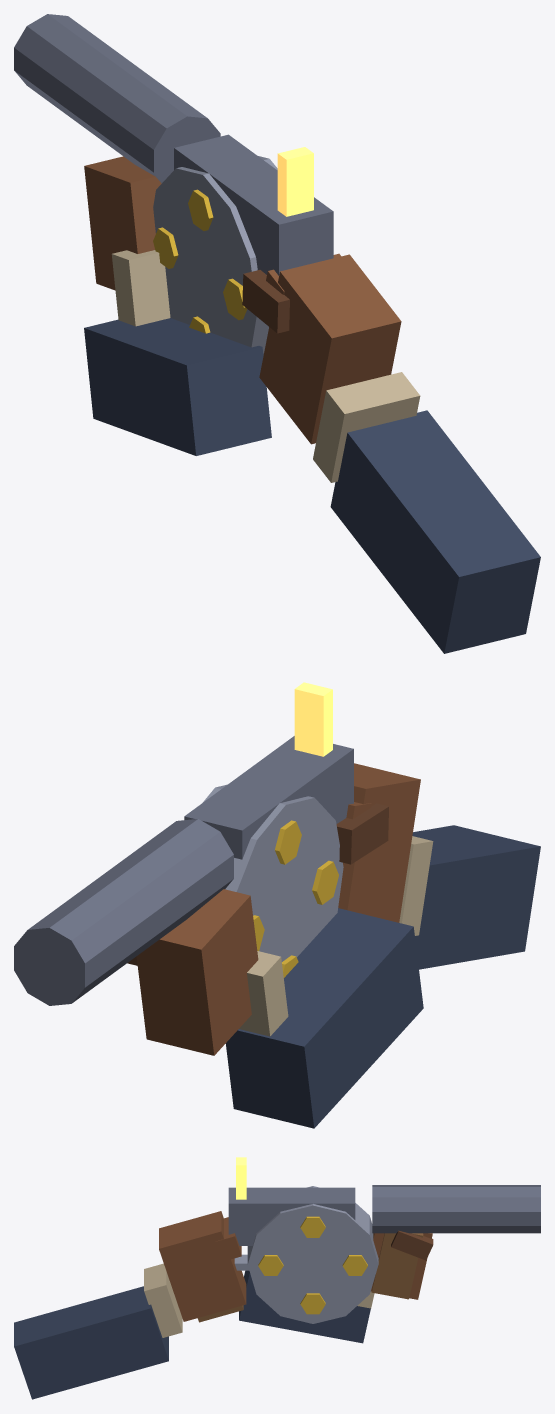
Rendered from weapon_grenade.glb.
The picture shows the model from 3 angles, top to bottom: view 1: azimuth 30°, elevation 25°; view 2: azimuth 150°, elevation 25°; view 3: azimuth 270°, elevation 25°; orthographic projection. The views are drawn at different scales.
Visible parts, largest first — view 1: grenade_launcher; view 2: grenade_launcher; view 3: grenade_launcher.
Part boxes in pixels (x1,y1,x2,y2): grenade_launcher: (14, 14, 540, 653); grenade_launcher: (14, 682, 540, 1128); grenade_launcher: (14, 1157, 540, 1399).
Size of the model in its own units: 0.261 by 0.5795 by 1.25.
